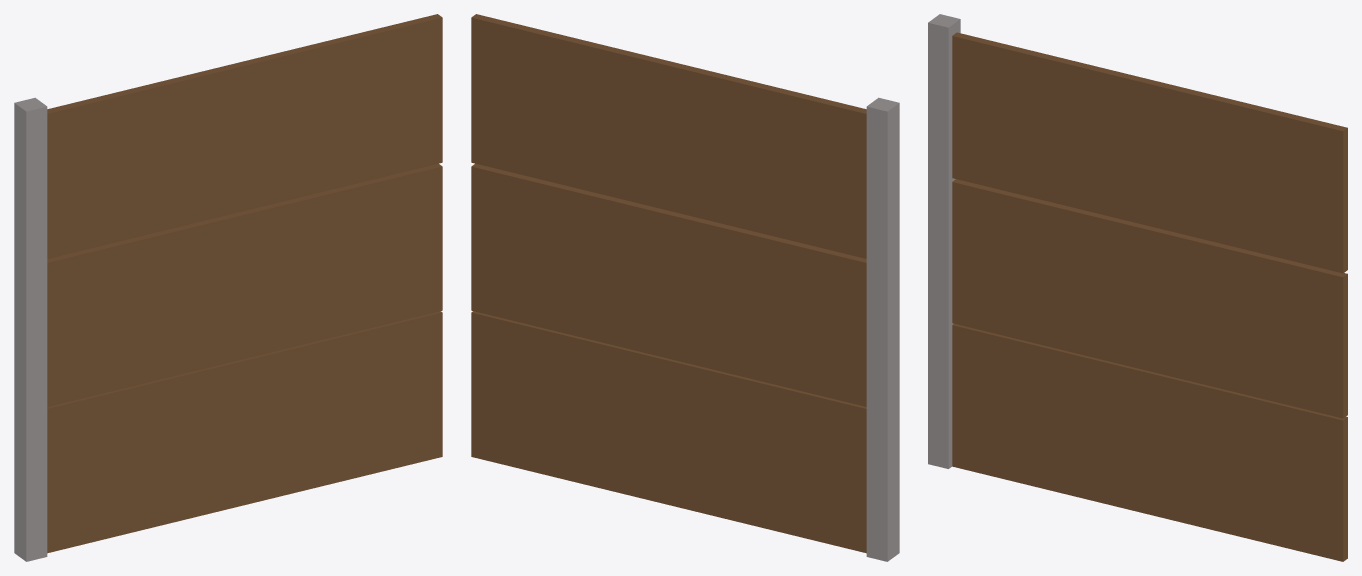
The model's file is fence-big.glb.
3 renders of one model, left to right at view 1: azimuth 30°, elevation 25°; view 2: azimuth 150°, elevation 25°; view 3: azimuth 330°, elevation 25°, orthographic. The views are drawn at different scales.
Parts seen in each view (by area): view 1: fence-big; view 2: fence-big; view 3: fence-big.
Part boxes in pixels (x1,y1,x2,y2): fence-big: (14, 14, 442, 561); fence-big: (471, 14, 899, 561); fence-big: (928, 14, 1347, 561).
Bounding box in the file's own units: 2 × 2.05 × 0.1.
1 material, 1 textured.
